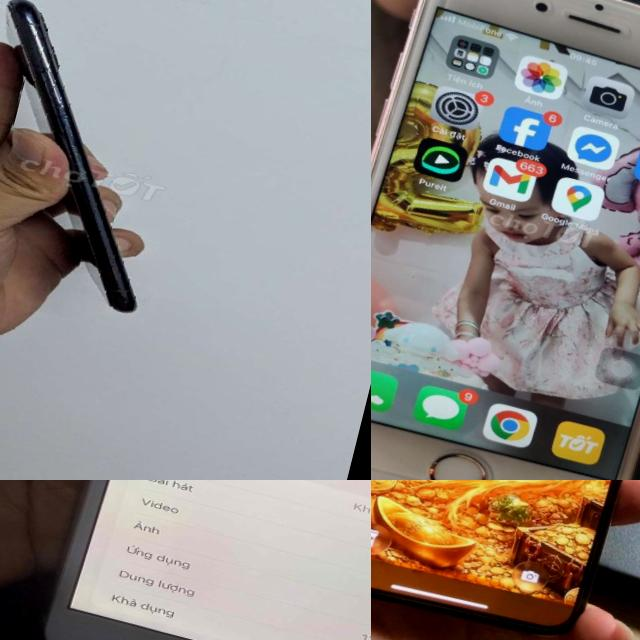scratch: (31, 102, 113, 184)
